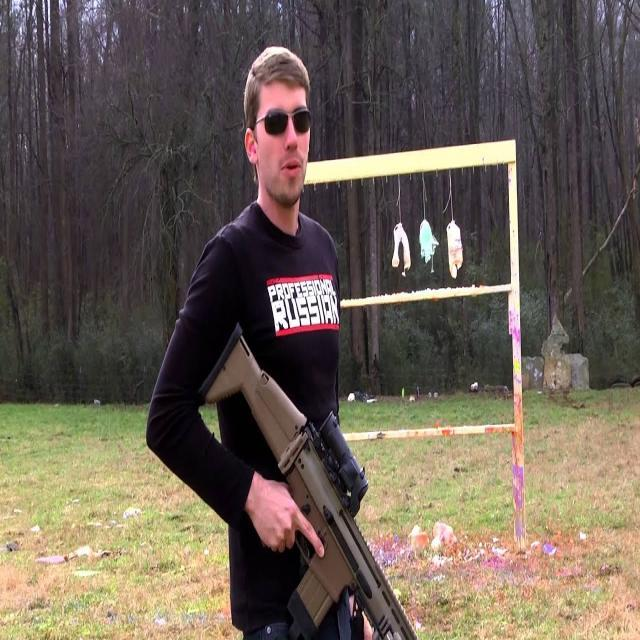Rifle: (200, 326, 418, 640)
